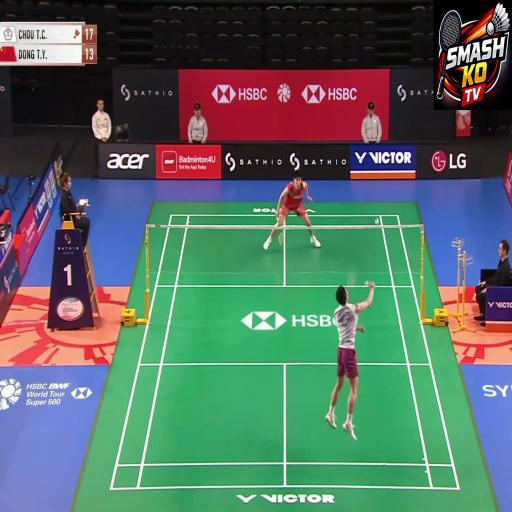player: (322, 282, 377, 458), (266, 135, 322, 275)
